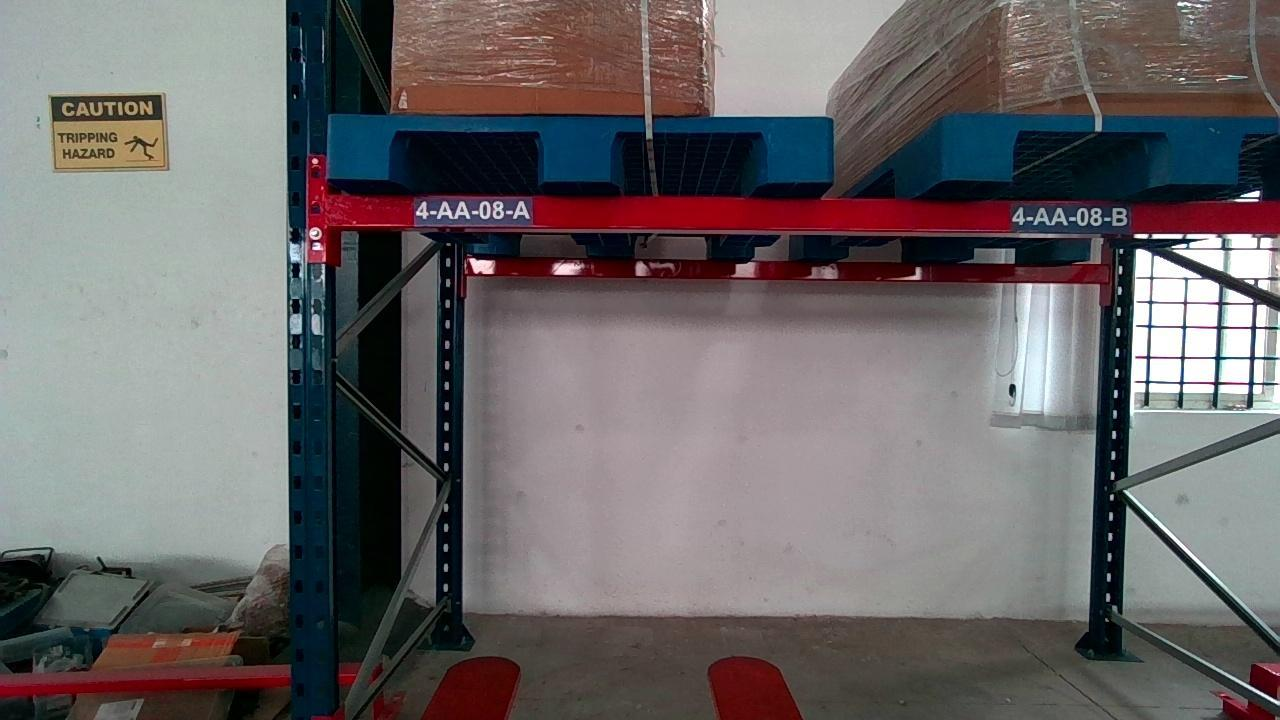h_rack: (322, 191, 1280, 234)
small_pallet: (324, 110, 823, 180), (939, 112, 1280, 189)
